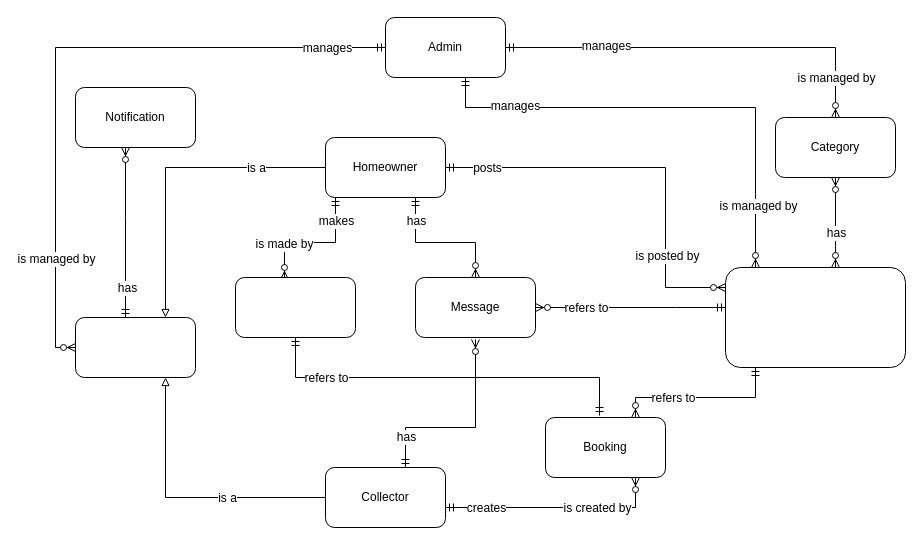
Some shapes in this 923 by 545 pixel diagram are drawn without their labels. Each missing label, with the centre of its shape:
"Account" belongs at (x=135, y=347).
"Review" belongs at (x=295, y=307).
"Scrap" belongs at (x=815, y=317).
